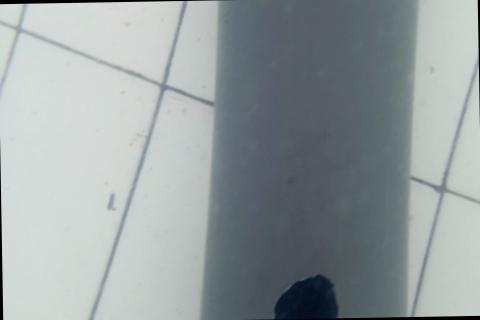kebocoran: (270, 271, 341, 319)
